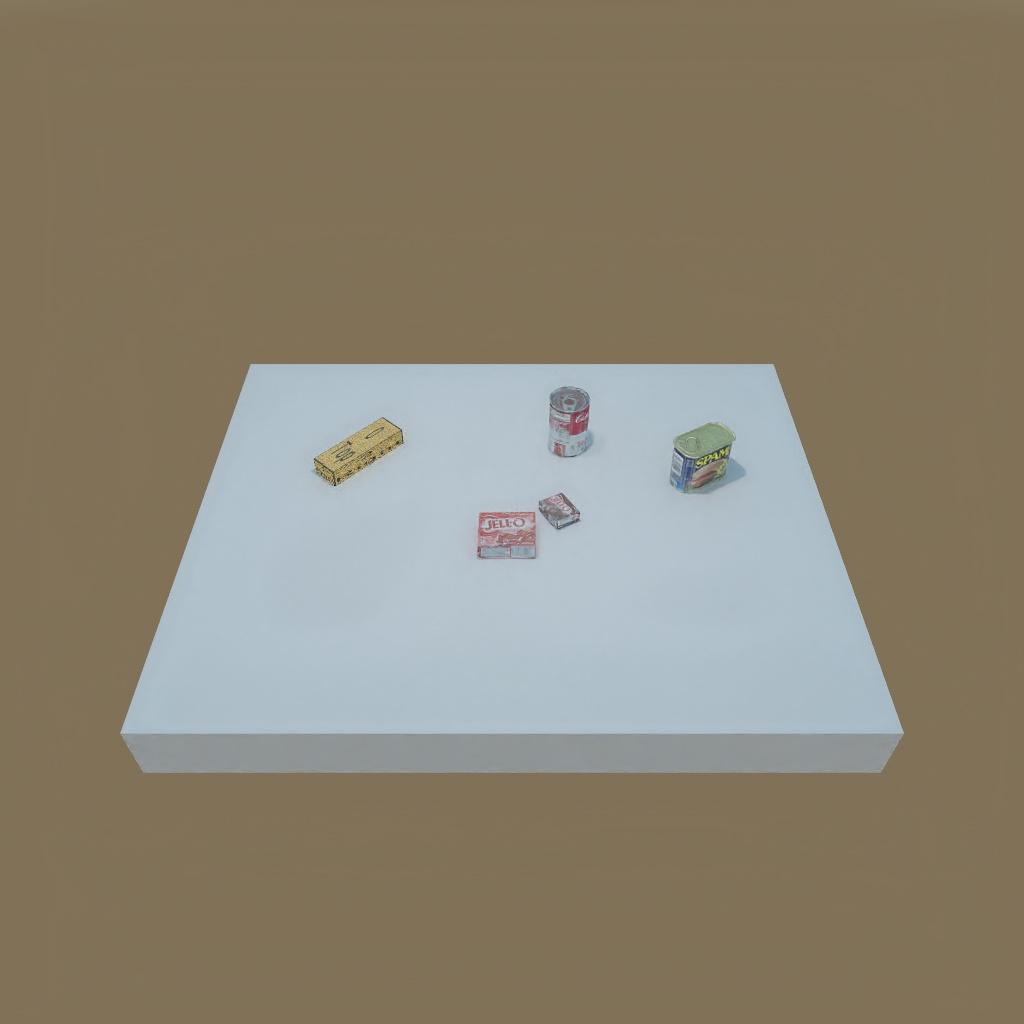gelatin_box: (474, 509, 545, 562)
jenga: (309, 415, 407, 488)
potted_meat_can: (671, 425, 734, 490)
pudding_box: (538, 491, 581, 530)
tomato_soup_can: (542, 384, 598, 460)
